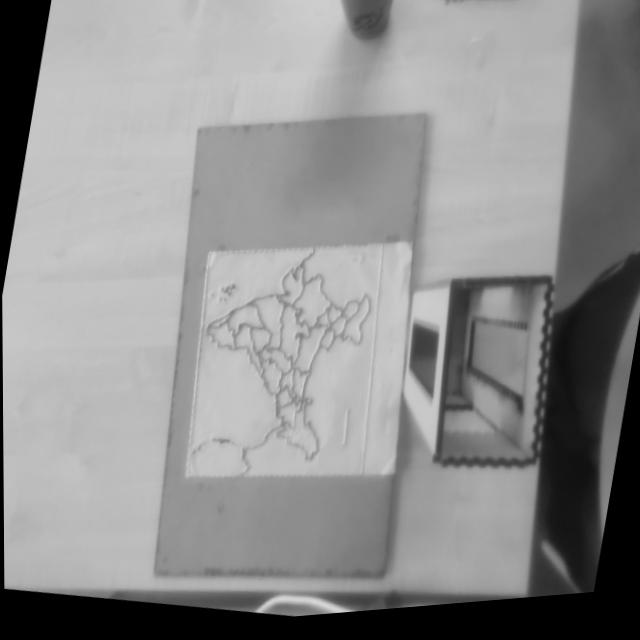map: (185, 228, 383, 493)
